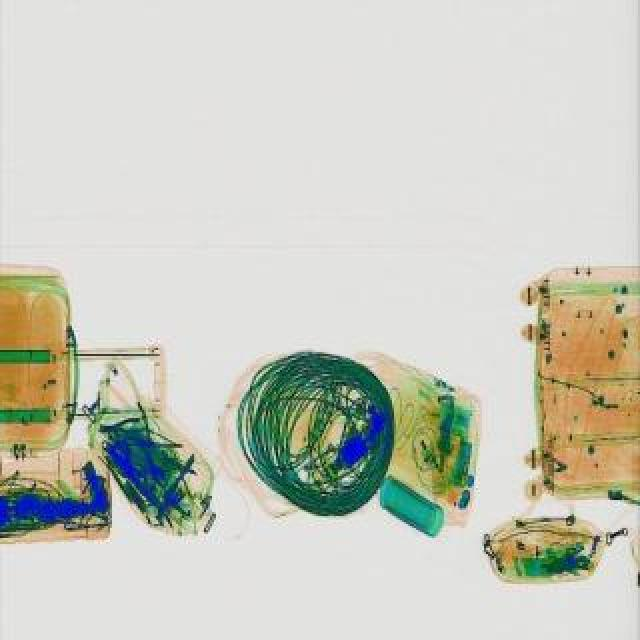wrench: (100, 416, 148, 436)
